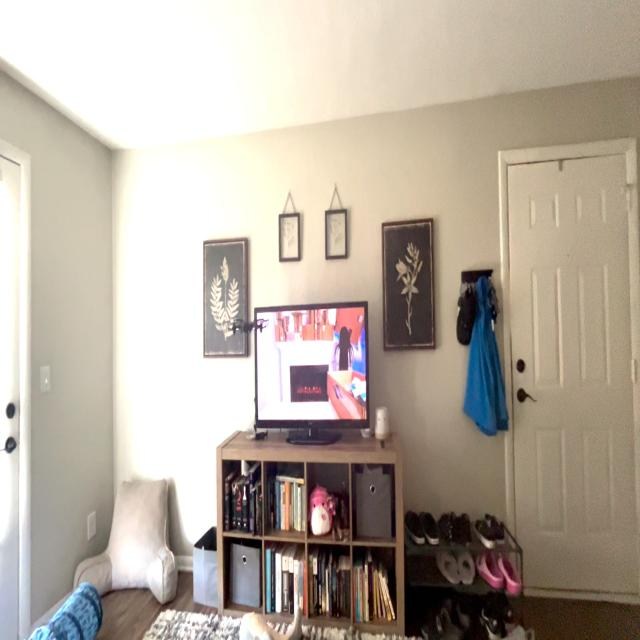drone: (217, 302, 281, 354)
